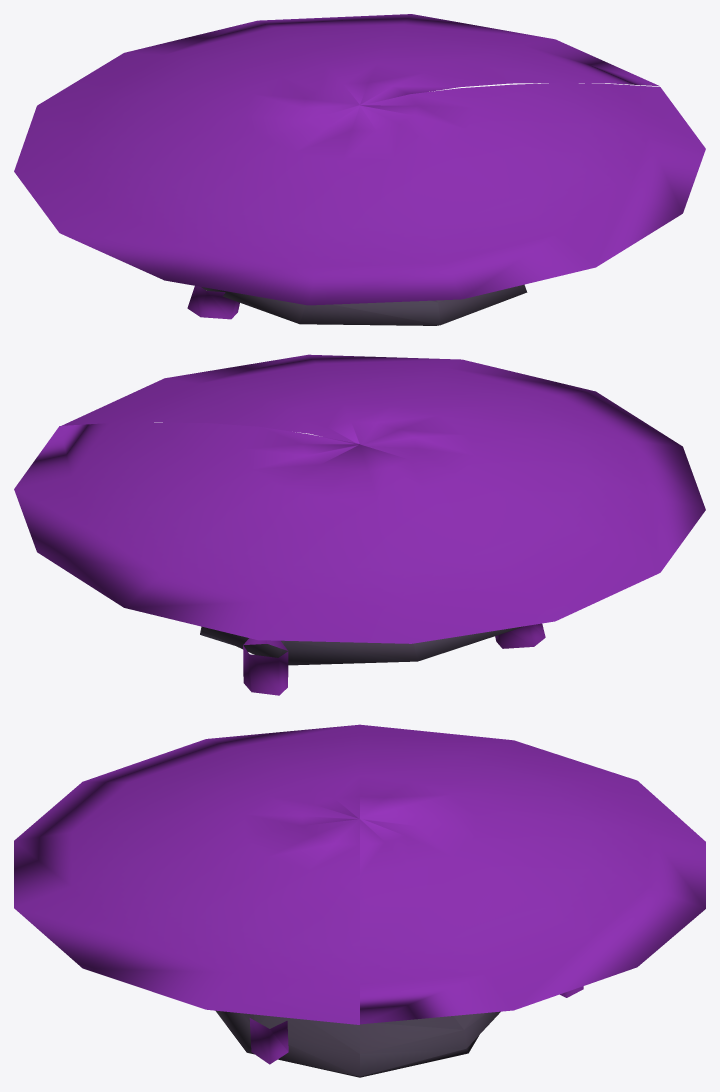
The model's file is giant_fungus_v1.glb.
3 views of the same model, one above another, from view 1: azimuth 30°, elevation 25°; view 2: azimuth 150°, elevation 25°; view 3: azimuth 270°, elevation 25° (orthographic). The views are drawn at different scales.
Bounding box in the file's own units: 1 × 0.2901 × 0.9749.
